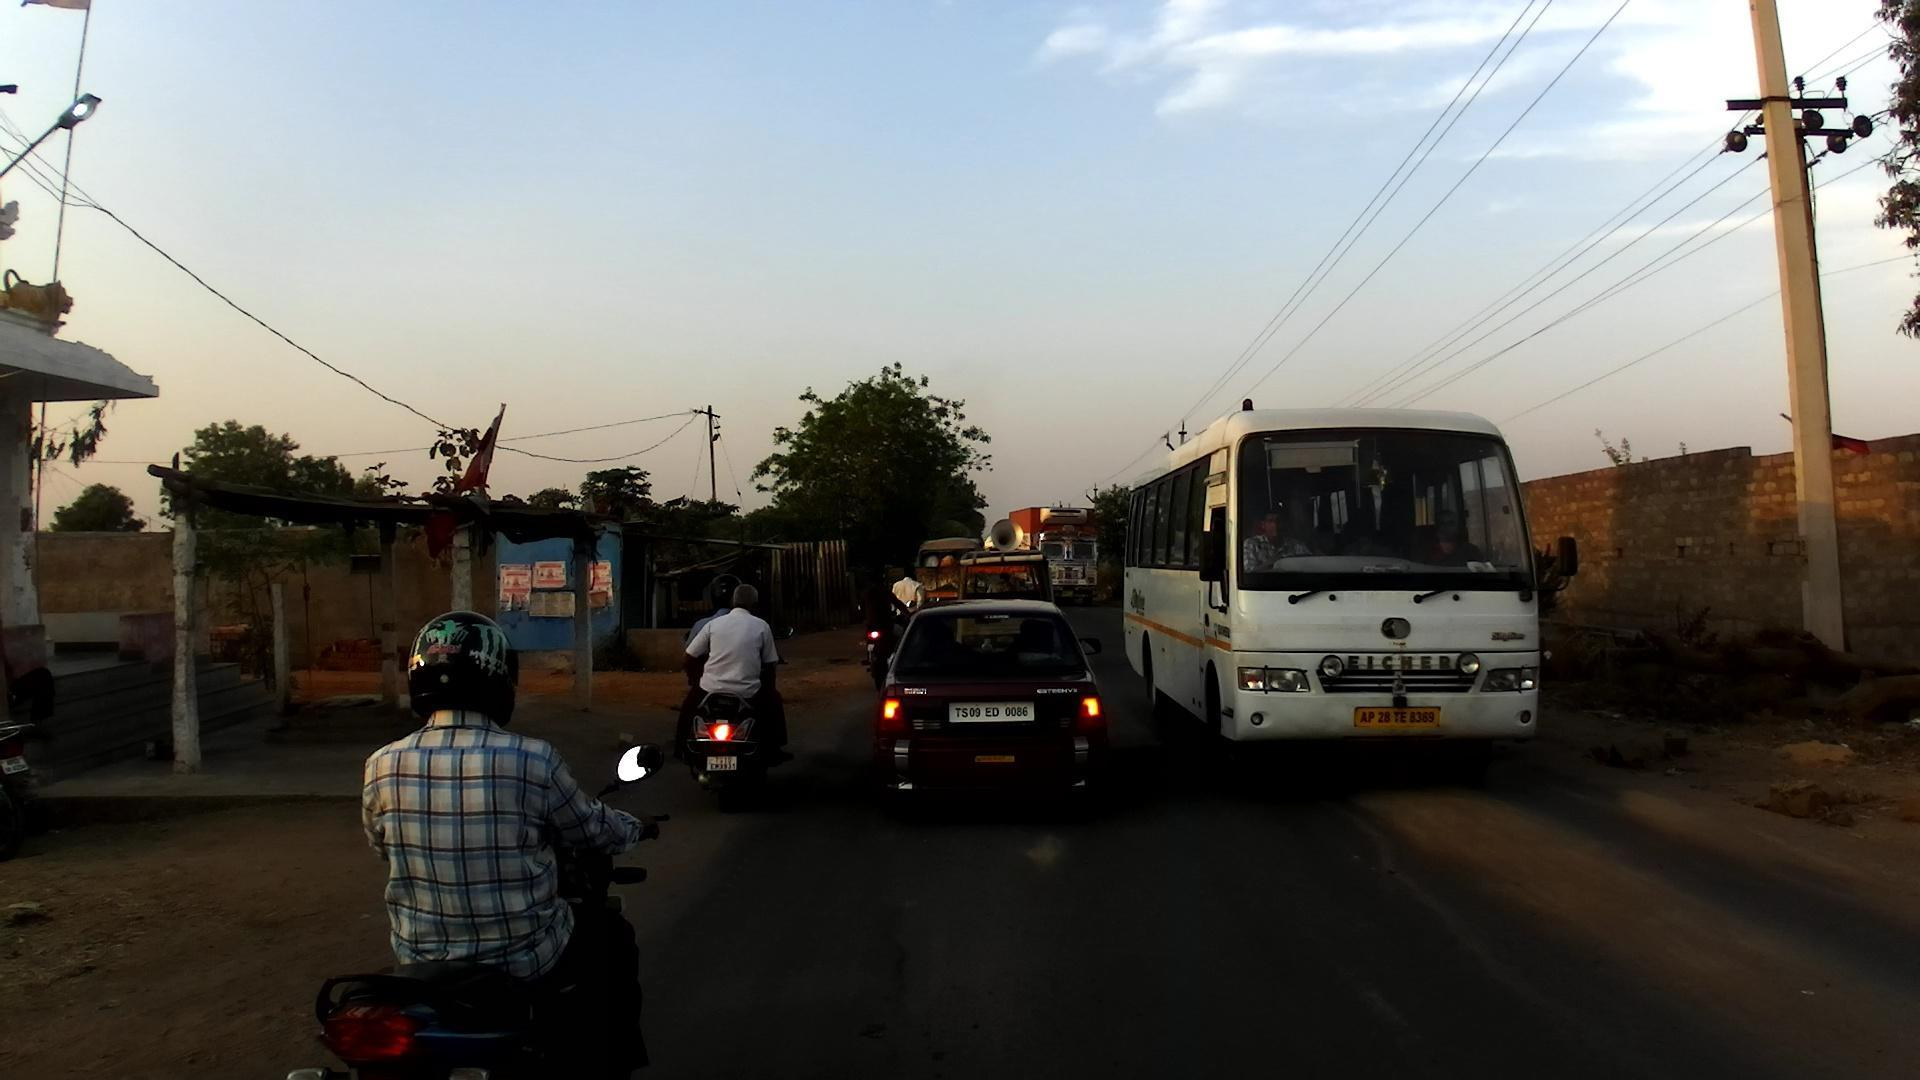off: (61, 51, 1920, 1080)
